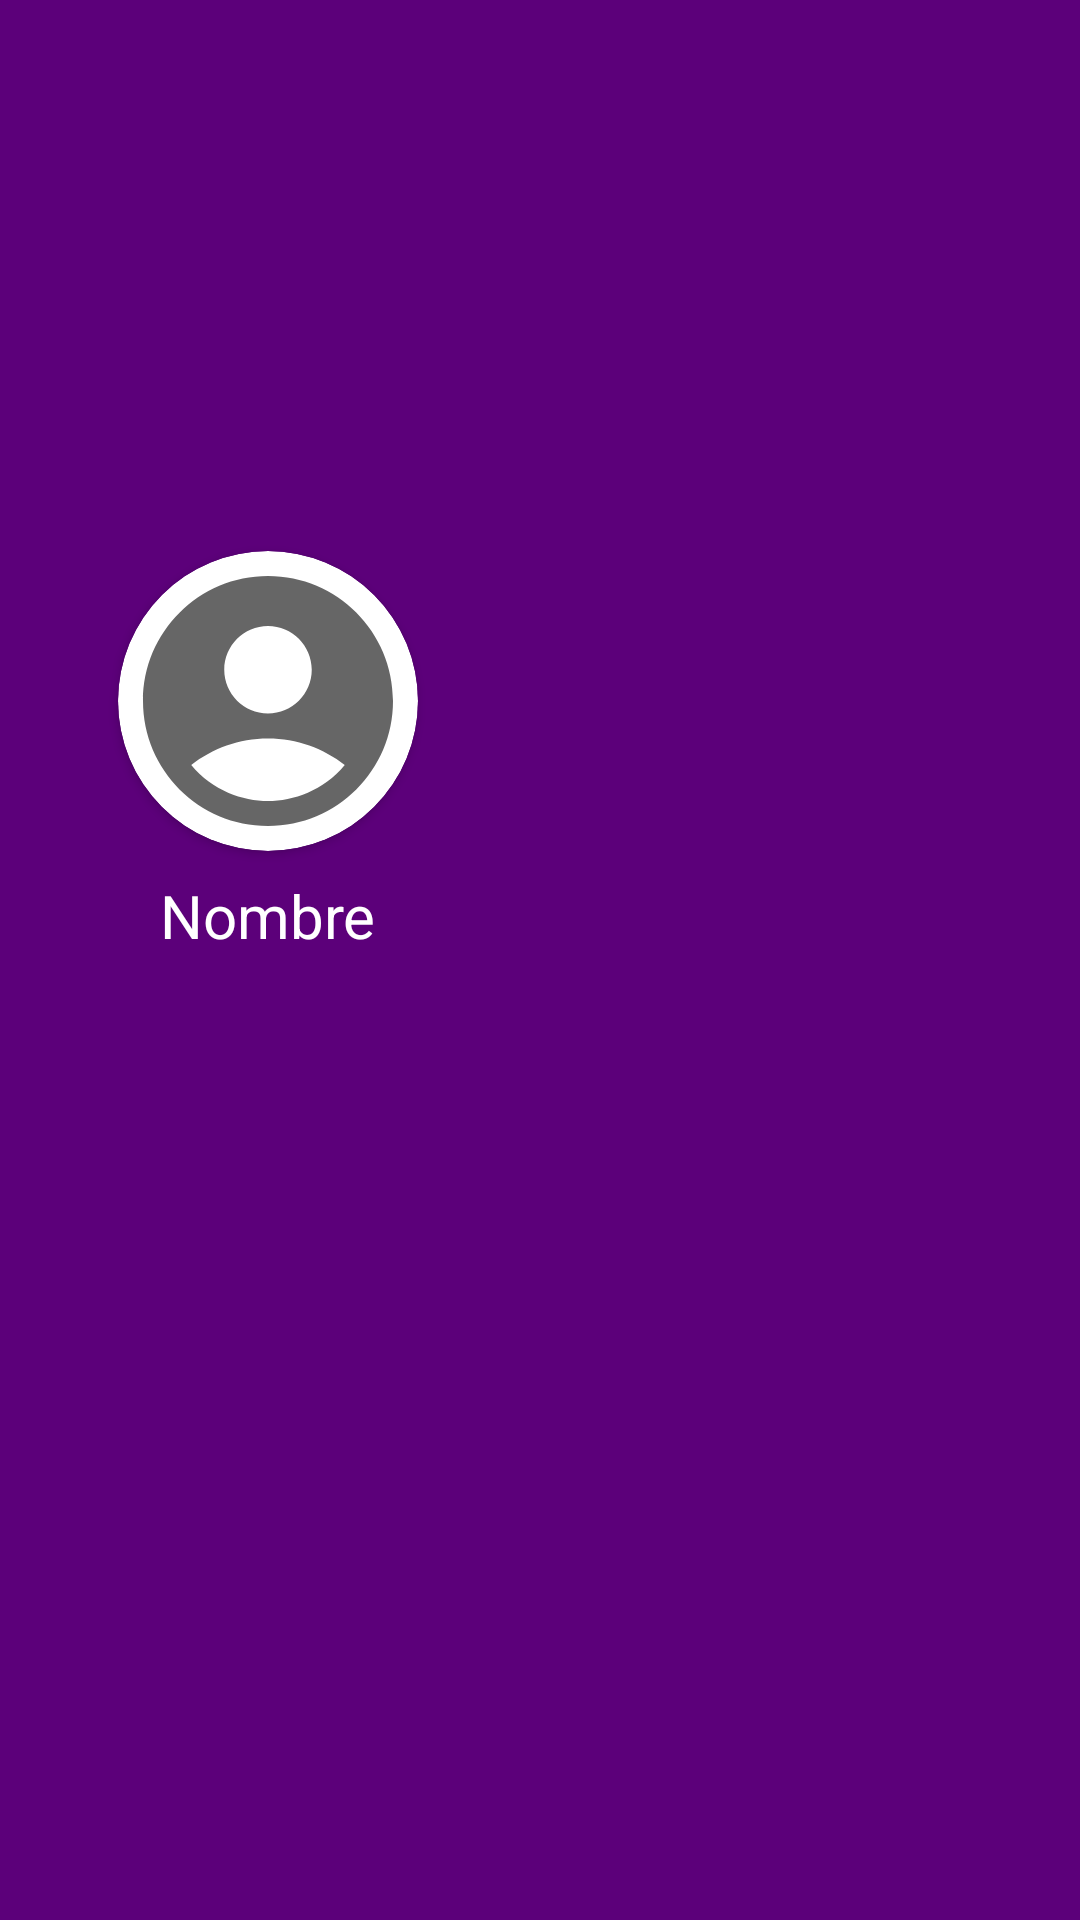

Where icons sit on this 1080×1920 app screen, as (x1, y1, x2, y2):
account: (118, 551, 418, 851)
